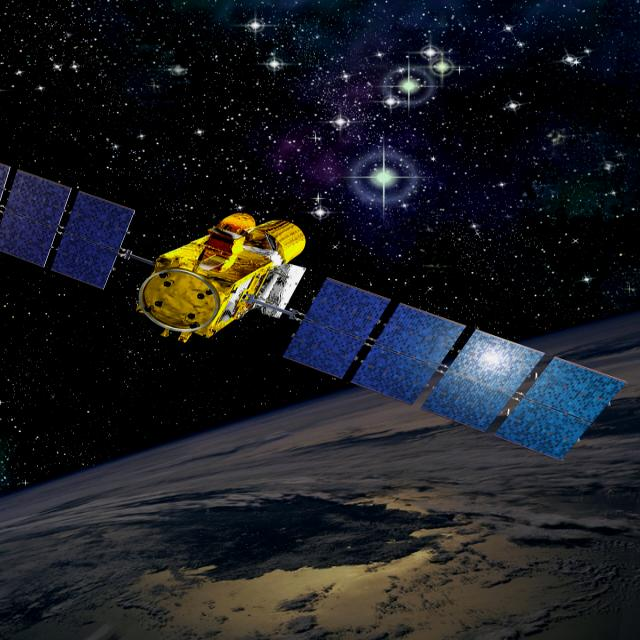medium_debris: (0, 153, 628, 470)
